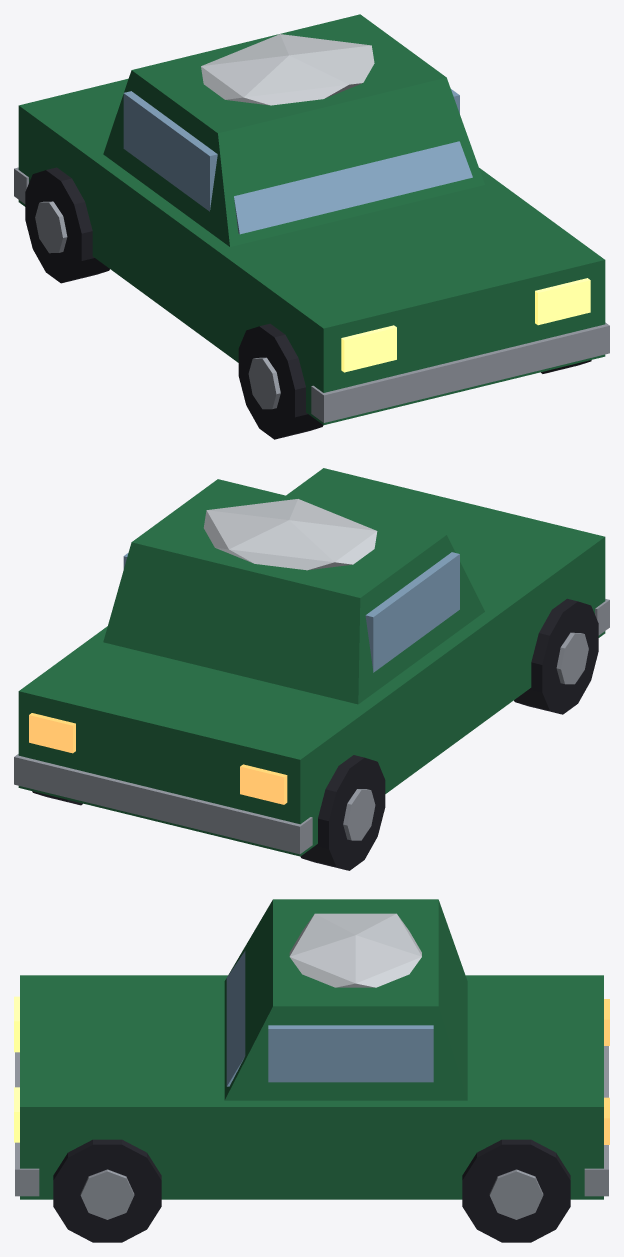
Rendered from Car_Green.glb.
3 views of the same model, one above another, from view 1: azimuth 30°, elevation 25°; view 2: azimuth 150°, elevation 25°; view 3: azimuth 270°, elevation 25° (orthographic). The views are drawn at different scales.
Visible parts, largest first — view 1: Car_Green_Body, Car_Green_Glow; view 2: Car_Green_Body, Car_Green_Glow; view 3: Car_Green_Body, Car_Green_Glow.
Part boxes in pixels (box(x1,y1,x2,y2)): Car_Green_Body: box(14, 14, 609, 439); Car_Green_Glow: box(341, 278, 590, 372); Car_Green_Body: box(14, 468, 609, 870); Car_Green_Glow: box(29, 713, 287, 804); Car_Green_Body: box(15, 899, 608, 1242); Car_Green_Glow: box(14, 996, 609, 1144).
Size of the model in its own units: 7.1 by 5.36 by 12.24.
